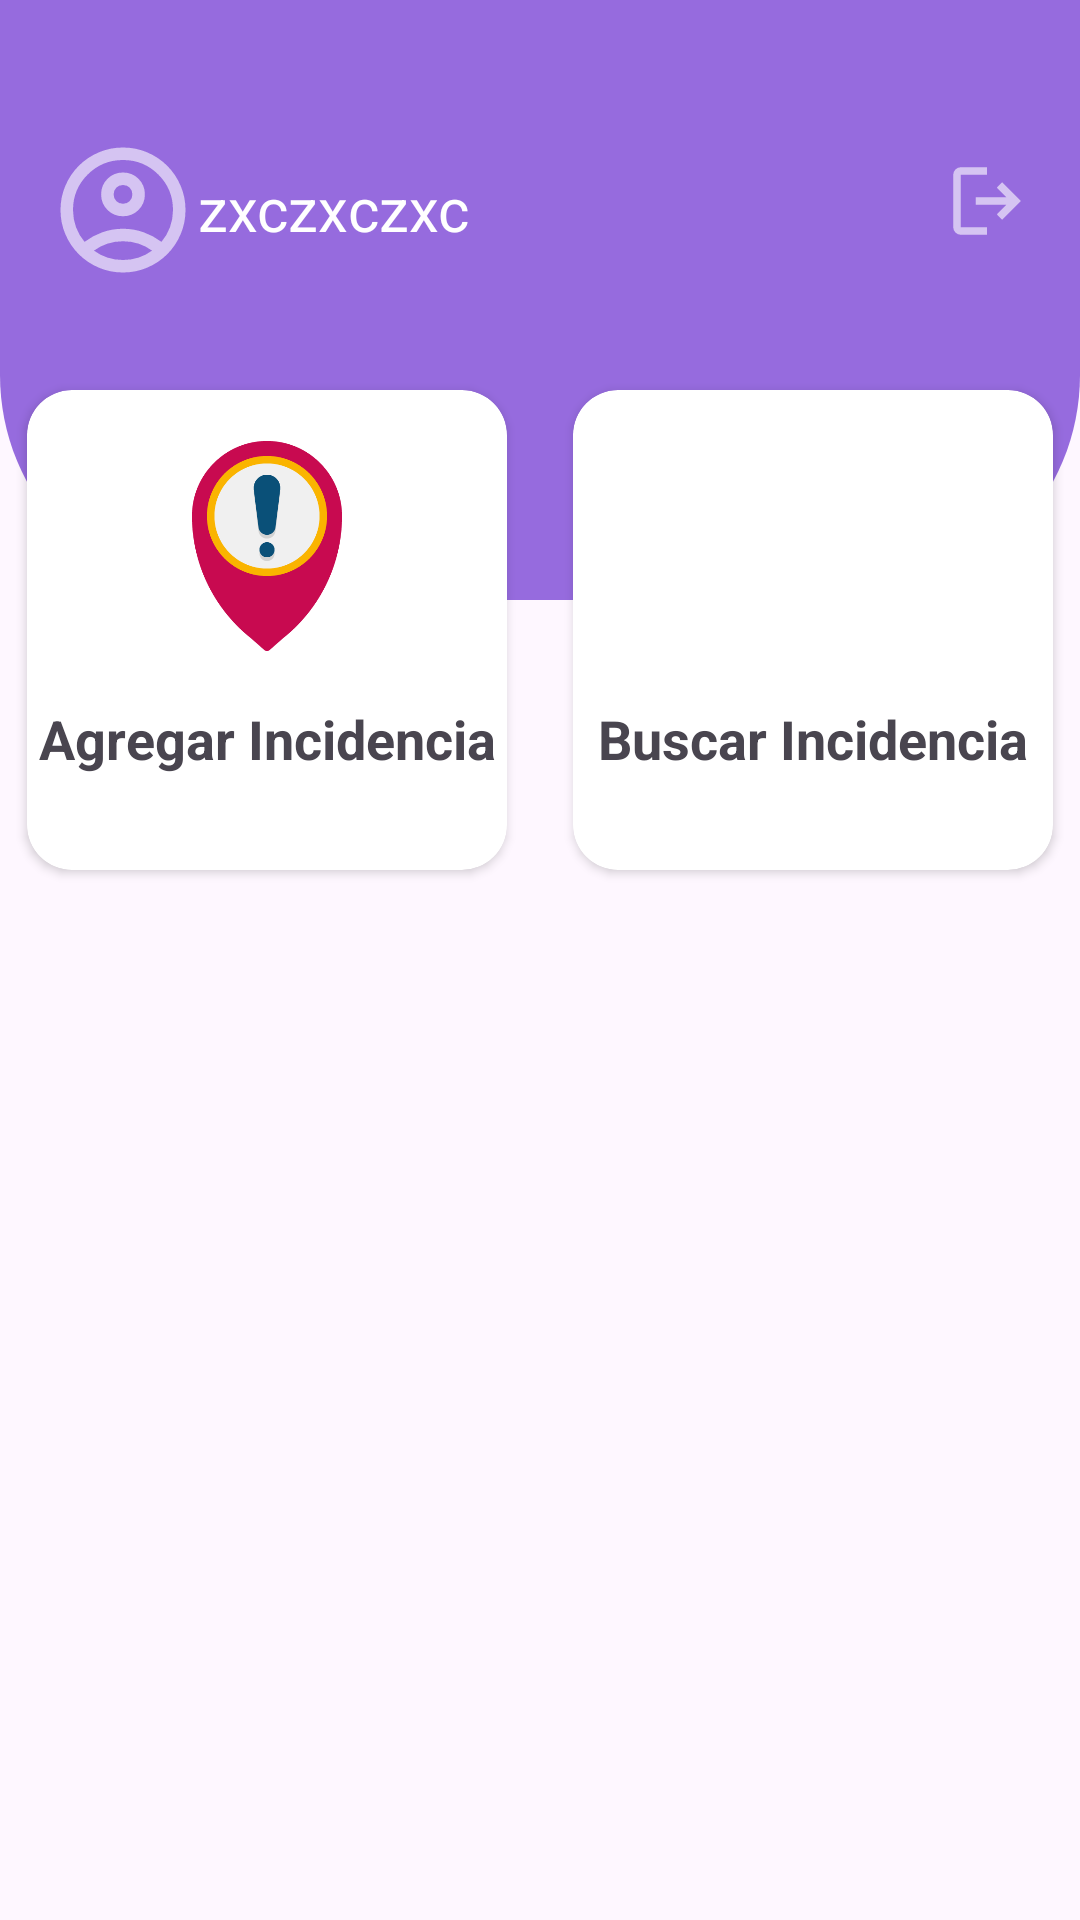

Screen size 1080w x 1920h. Icon name, then its center in pixels as [x,y]:
incidenciass: [267,546]
users: [123,210]
